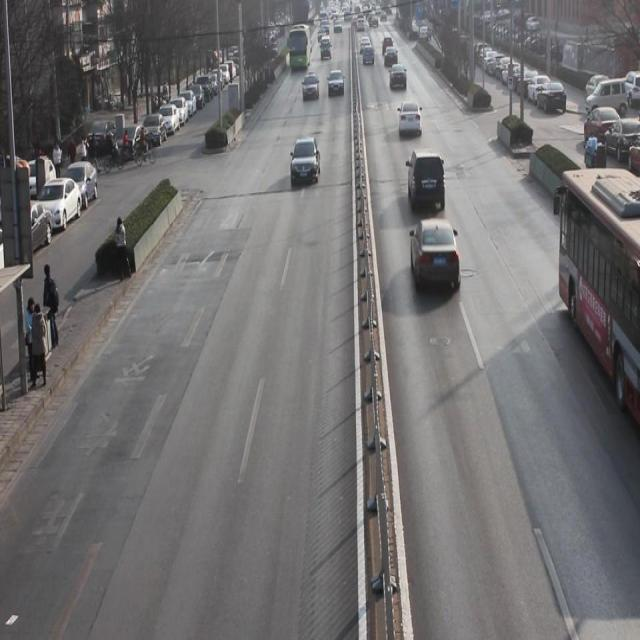car: (410, 218, 461, 294), (406, 147, 448, 212), (291, 136, 320, 188), (398, 100, 423, 137), (327, 69, 346, 98), (390, 62, 409, 89), (303, 72, 320, 101)
truck: (320, 36, 332, 61)
van: (559, 164, 640, 420)
